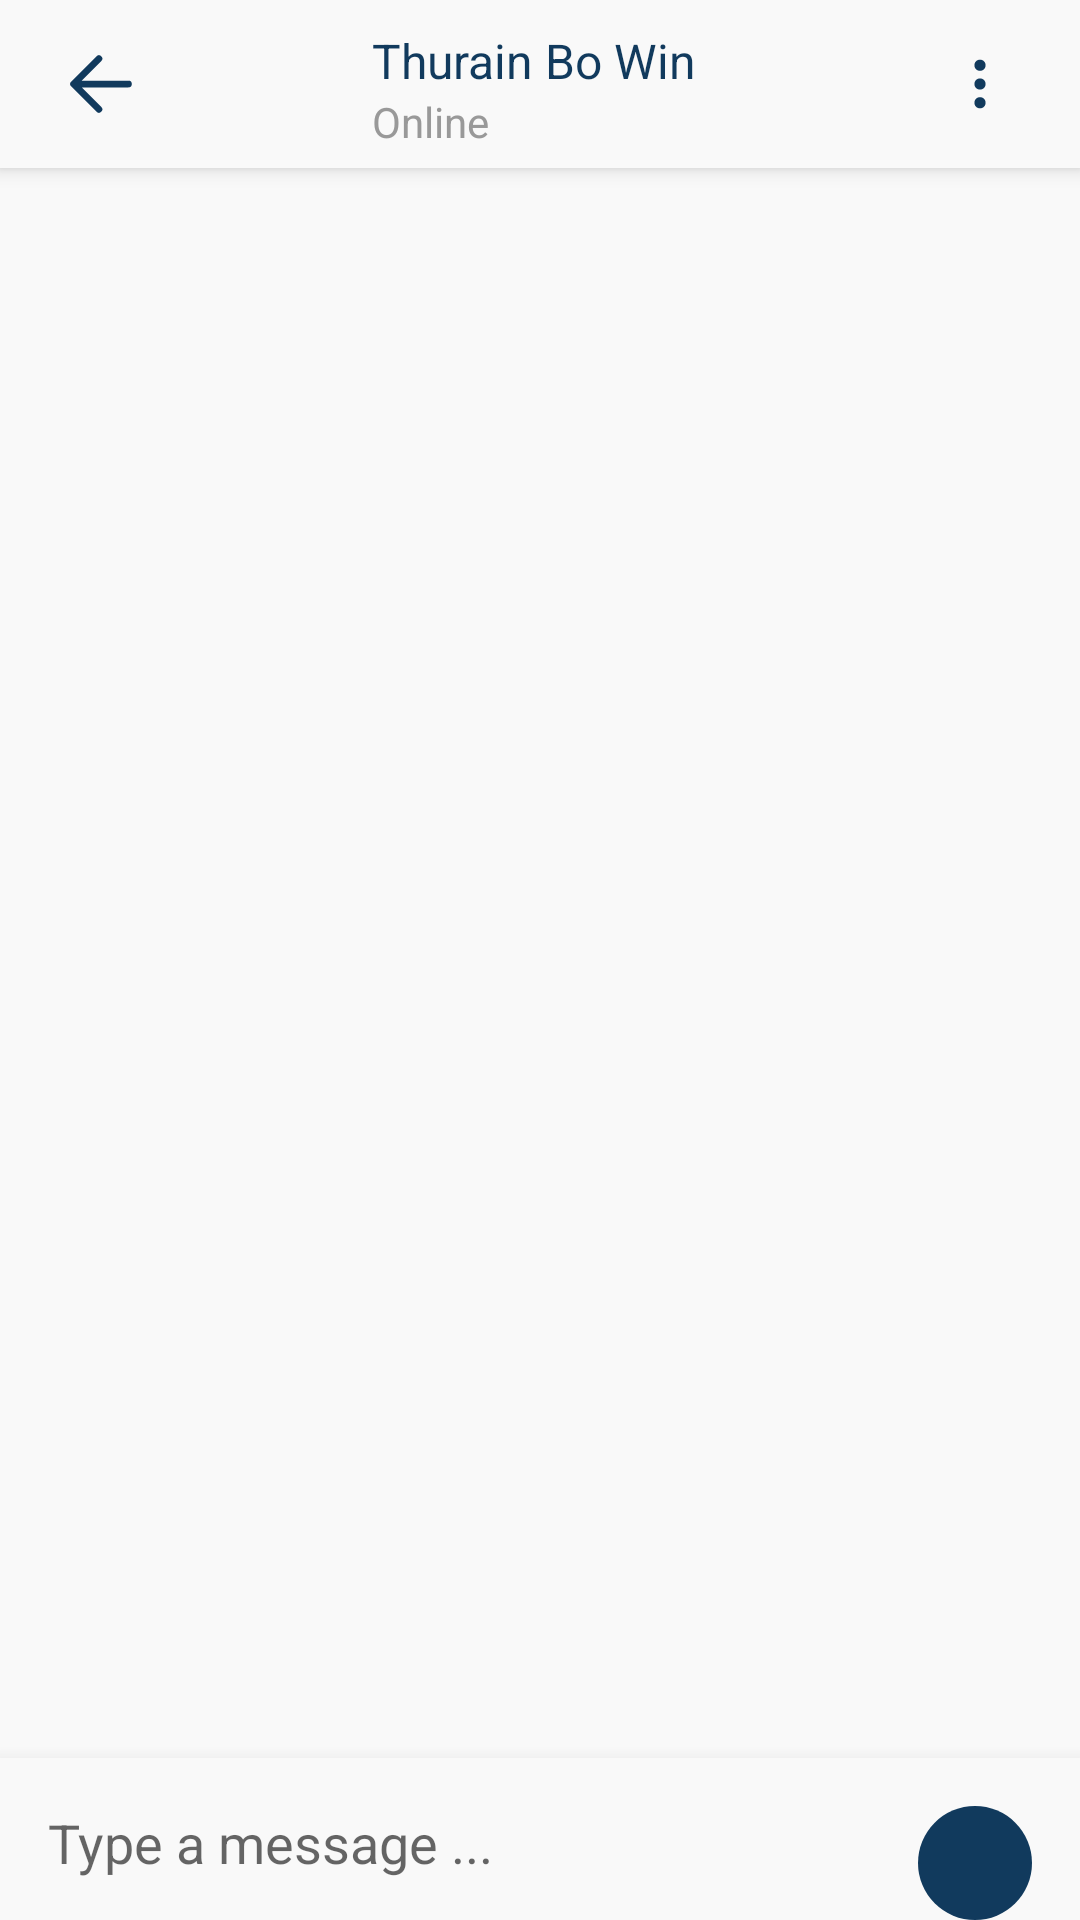

Screen size 1080*1920. Icon name, then its box in pixels as (x1,y1,x2,y2):
back arrow: (70,55,132,113)
more vert: (974,59,986,109)
